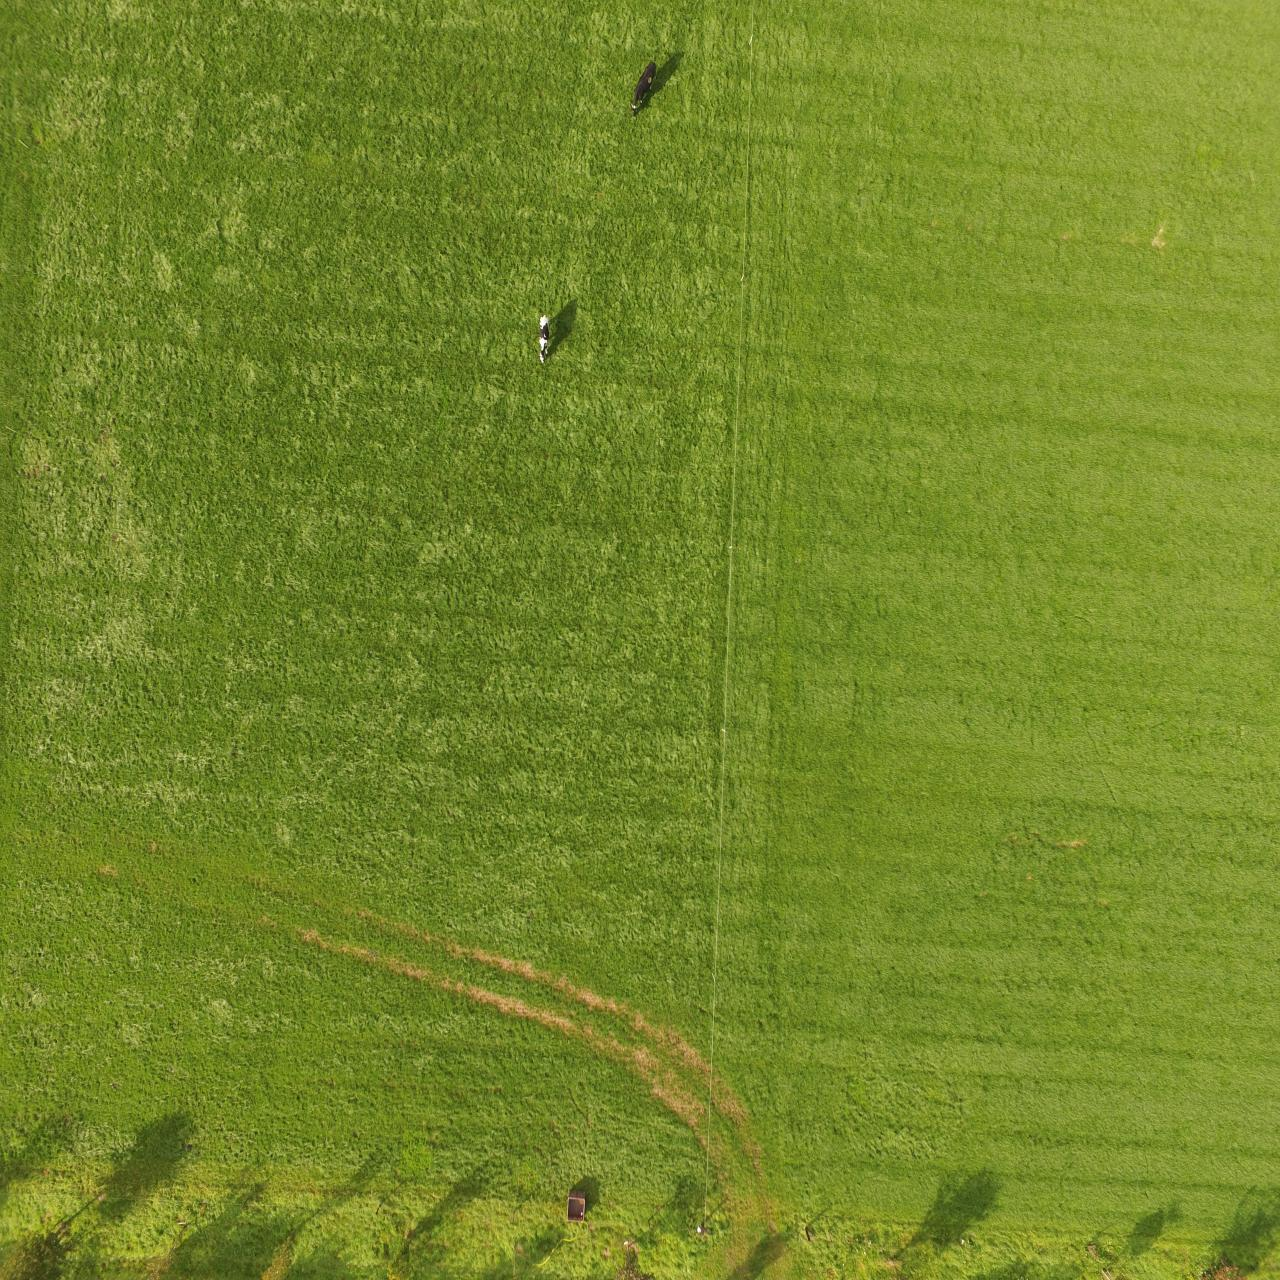cow: (628, 59, 658, 118), (537, 312, 552, 365)
